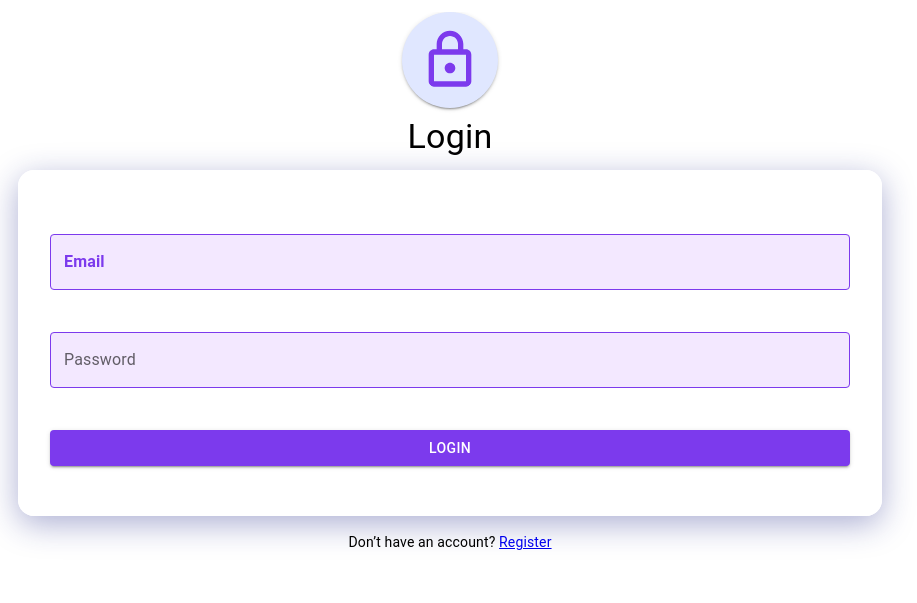
Test: Login Page › shows error if only email is filled
Type "test@mail.com" into the field labelled "Email" at (450, 262), box [50,234,850,290]
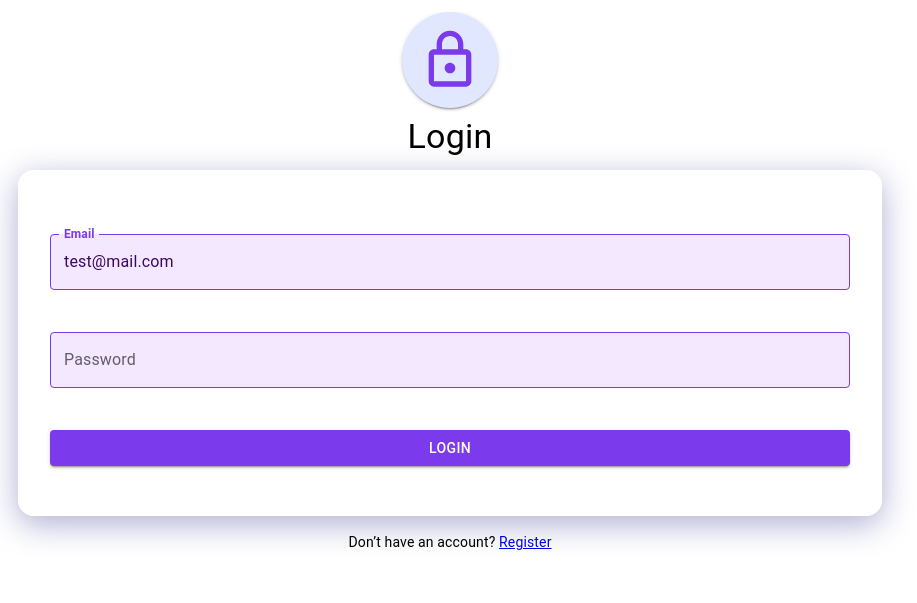
Click the button "Login" at (450, 448), box [50,430,850,466]
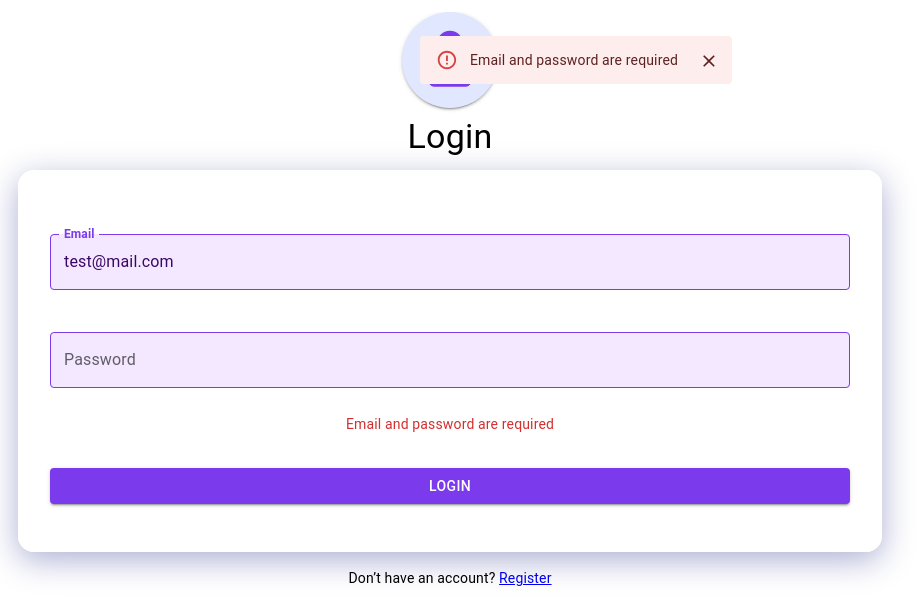
Check: the 1st text "Email and password are required" is shown, box [470,52,678,68]
